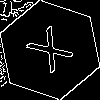X: (25, 25, 83, 82)
